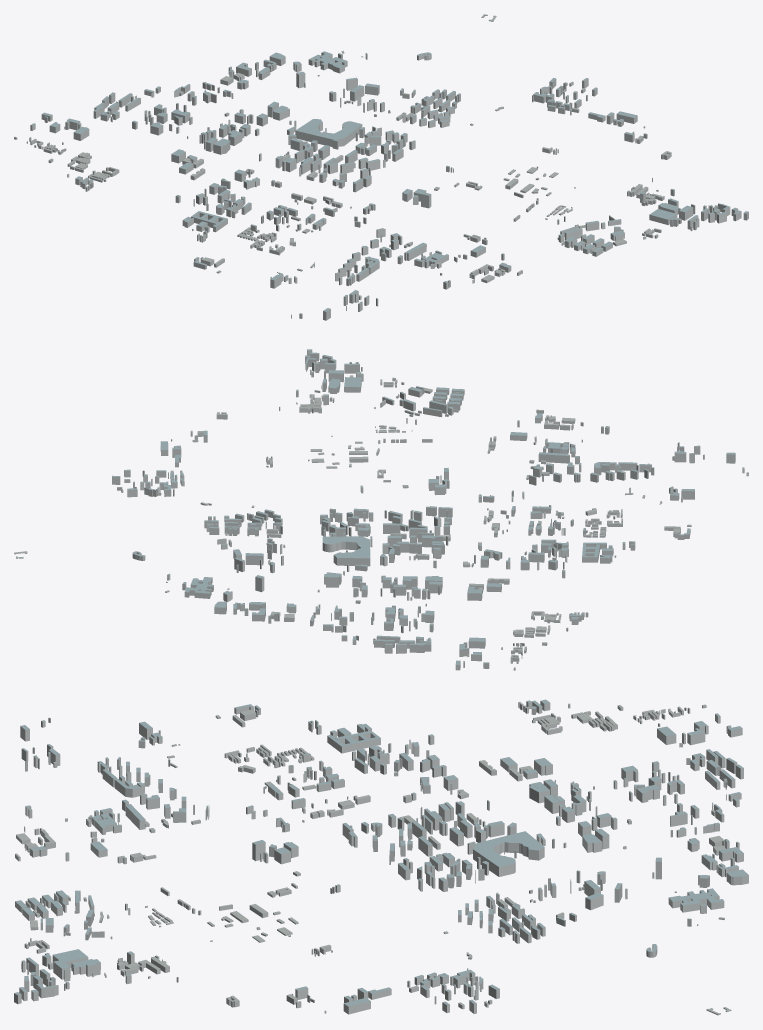
3 renders of one model, top to bottom at view 1: azimuth 30°, elevation 25°; view 2: azimuth 150°, elevation 25°; view 3: azimuth 270°, elevation 25°, orthographic. The views are drawn at different scales.
Parts seen in each view (by area): view 1: 上海全域建筑分块 · mapped building neighborhood; view 2: 上海全域建筑分块 · mapped building neighborhood; view 3: 上海全域建筑分块 · mapped building neighborhood.
Boxes of the visible parts, <box> form: 上海全域建筑分块 · mapped building neighborhood: <box>14,14,748,320</box>; 上海全域建筑分块 · mapped building neighborhood: <box>14,349,748,670</box>; 上海全域建筑分块 · mapped building neighborhood: <box>14,699,748,1015</box>.
Size of the model in its own units: 2109 by 55.92 by 2122.
